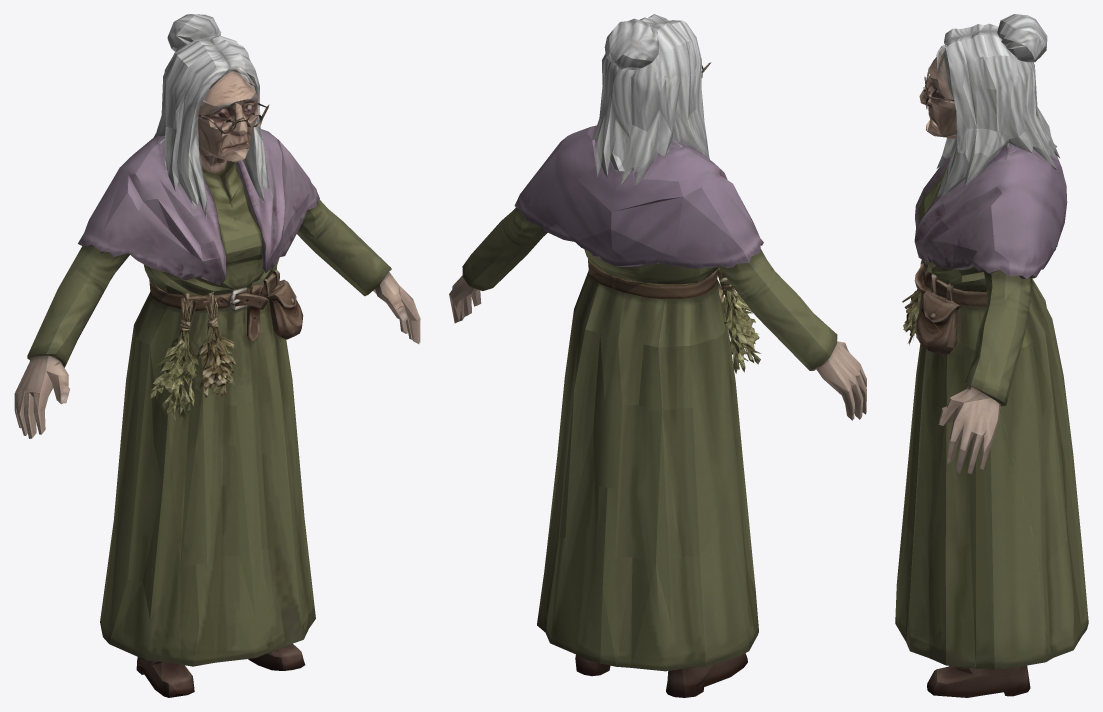
The model's file is MW_Herbalist.glb.
The picture shows the model from 3 angles, left to right: view 1: azimuth 30°, elevation 25°; view 2: azimuth 150°, elevation 25°; view 3: azimuth 270°, elevation 25°; orthographic projection. The views are drawn at different scales.
Size of the model in its own units: 1.24 by 1.9 by 0.5128.
1 material, 1 textured.
